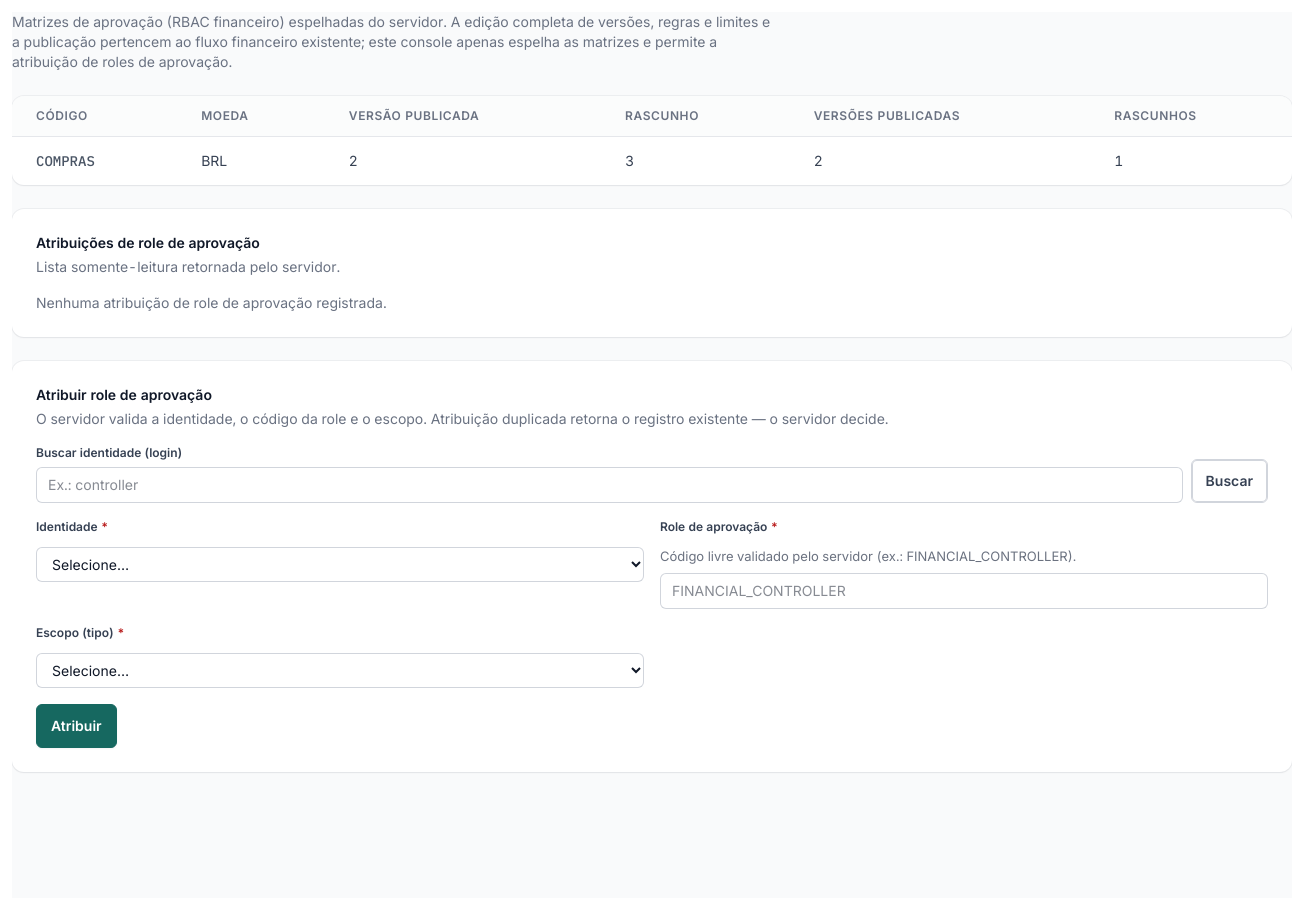
Scenario: access-admin console estendido › (c) MatricesTab renderiza a visão geral e, ao selecionar, mostra as regras publicadas
The width and height of the screenshot is (1292, 898).
Expected: the text "BRL" is shown, [177, 136, 325, 185]
Click the text "COMPRAS" at (65, 161), box [36, 152, 95, 170]
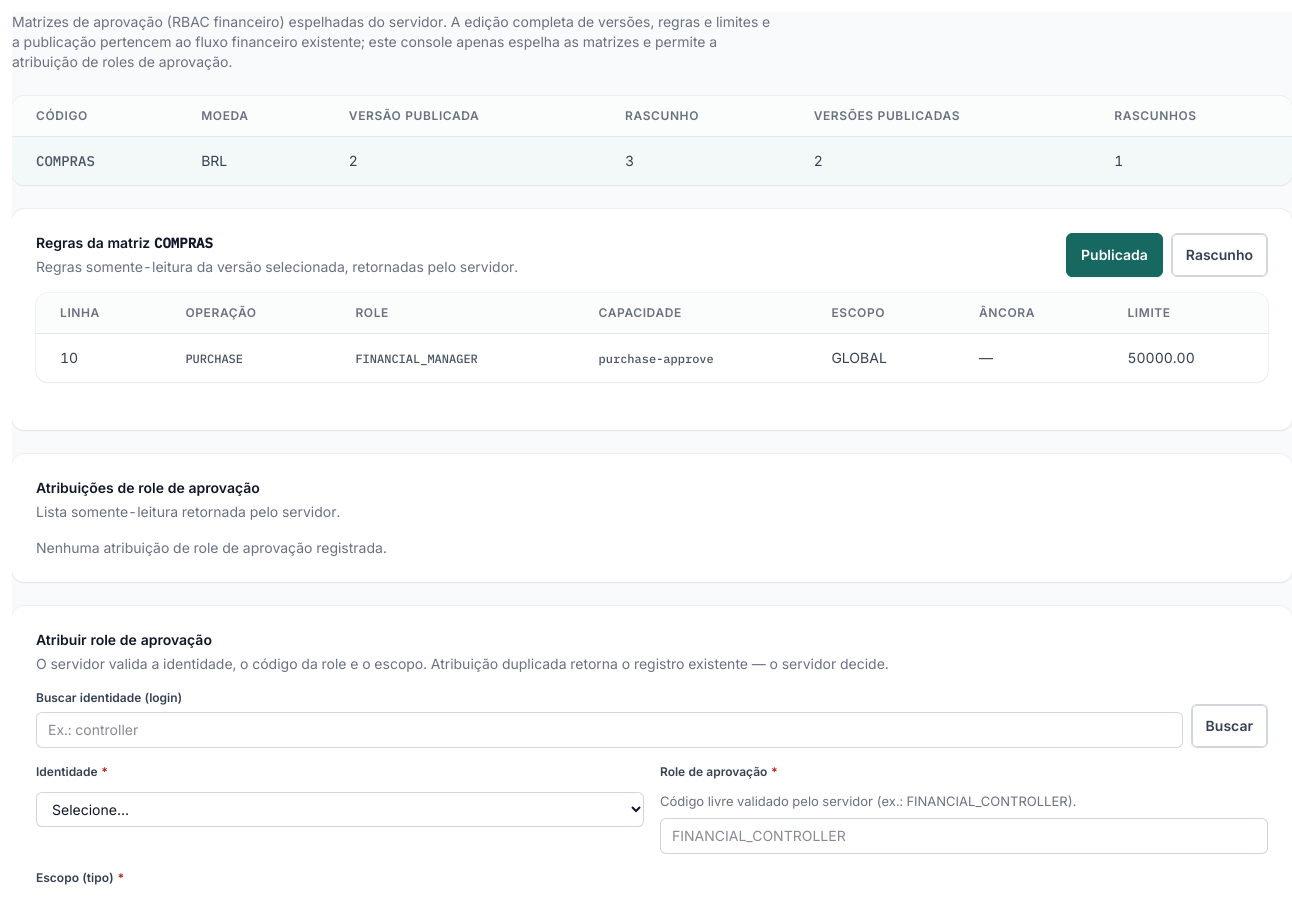
Expected: the text "PURCHASE" is shown, [185, 351, 243, 366]
Expected: the text "FINANCIAL_MANAGER" is shown, [355, 351, 478, 366]
